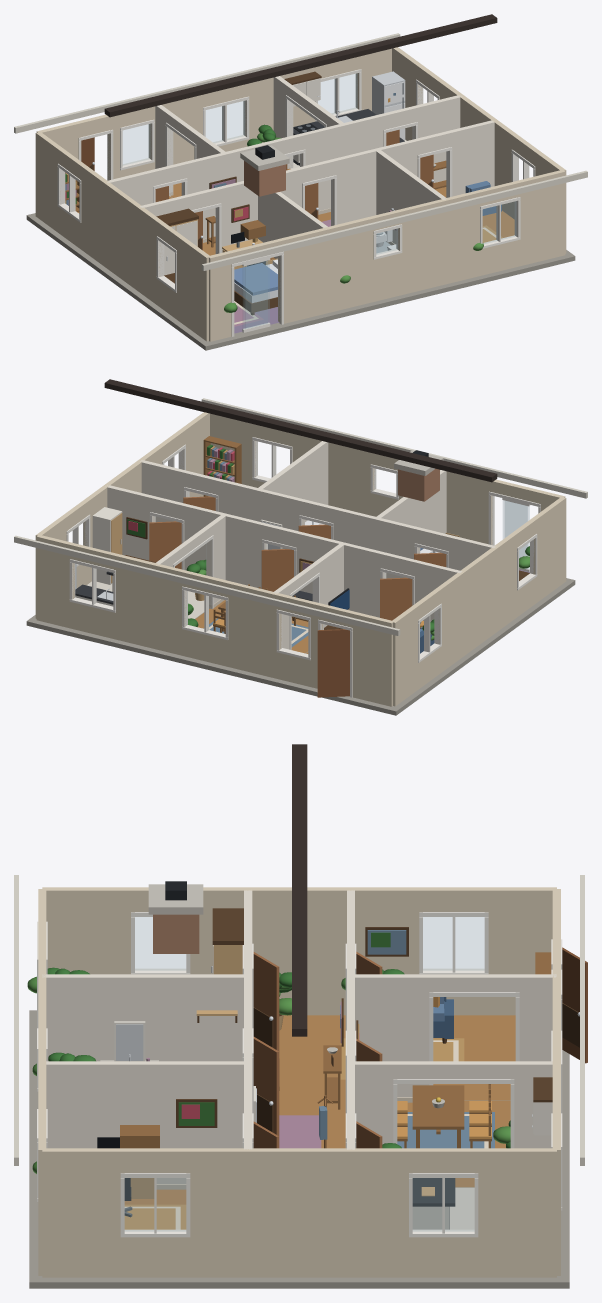
3 renders of one model, top to bottom at view 1: azimuth 30°, elevation 25°; view 2: azimuth 150°, elevation 25°; view 3: azimuth 270°, elevation 25°, orthographic. The views are drawn at different scales.
Parts seen in each view (by area): view 1: house; view 2: house; view 3: house.
Boxes of the visible parts, left/top/right/bottom form: house: left=14, top=14, right=587, bottom=350; house: left=14, top=379, right=587, bottom=715; house: left=14, top=744, right=587, bottom=1288.
Size of what is drawn, in the model's own units: 13.1 by 5.71 by 11.16.
